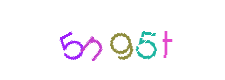5: (57, 0, 137, 80), (82, 0, 162, 80)
9: (74, 0, 154, 80)
N: (72, 0, 152, 80)
T: (106, 0, 186, 80)
